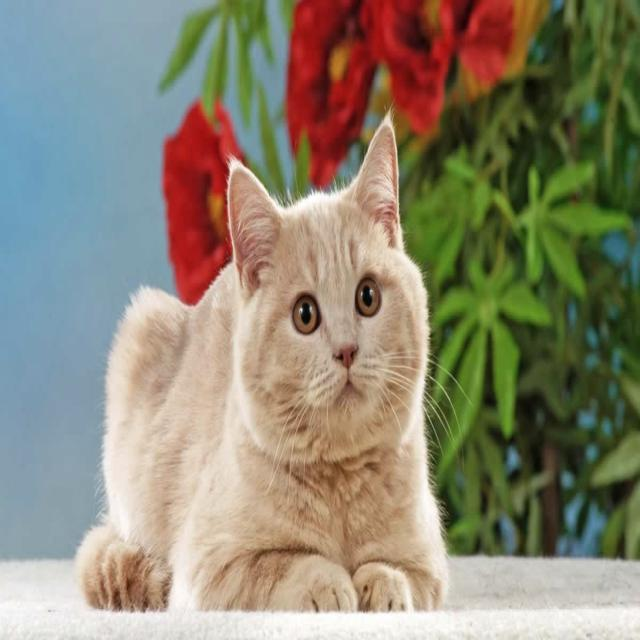cat: (75, 114, 447, 612)
